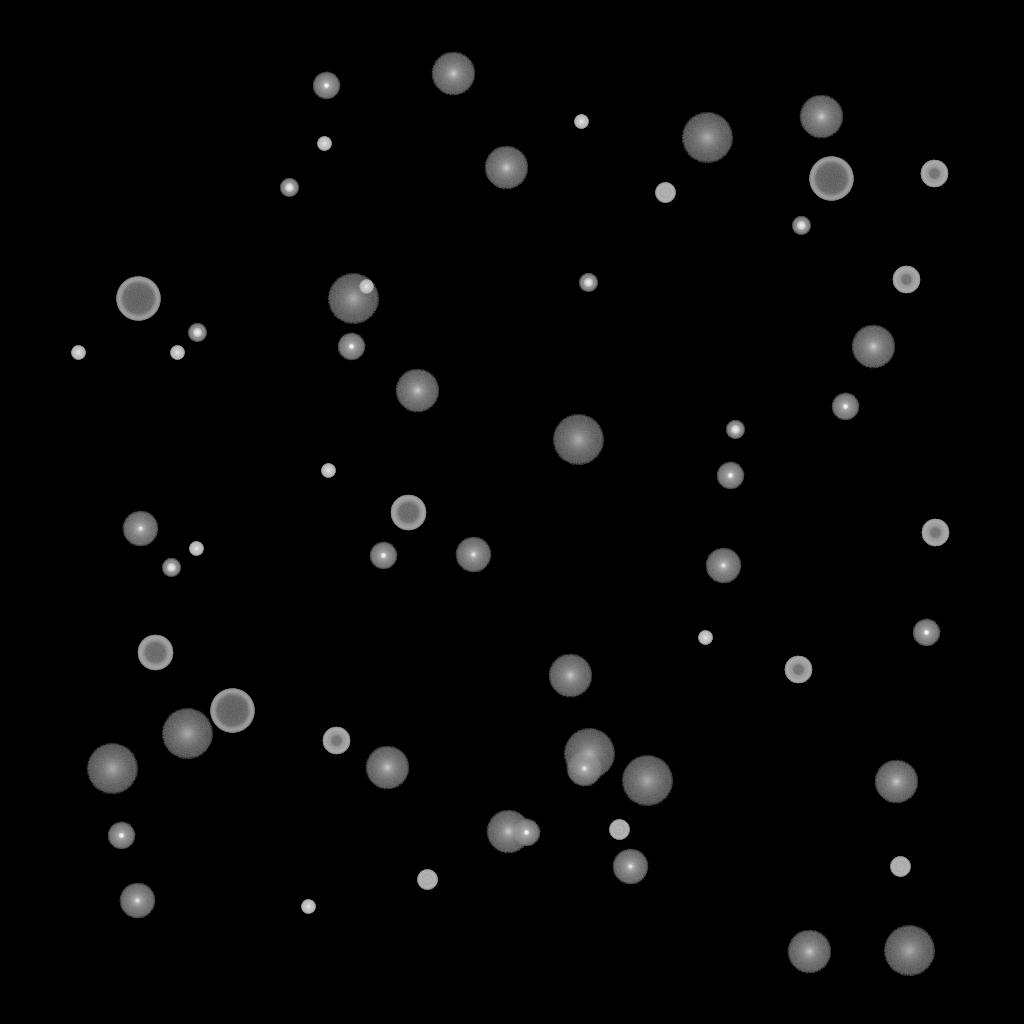depth:-10: (369, 542, 397, 570), (831, 393, 859, 421), (716, 462, 744, 490), (312, 72, 340, 100), (337, 333, 365, 361), (512, 819, 540, 847), (107, 822, 135, 850), (912, 619, 940, 647)
depth:-20: (726, 421, 744, 439), (280, 179, 298, 197), (579, 274, 597, 292), (162, 559, 180, 577), (188, 324, 206, 342), (792, 217, 810, 235)
depth:-30: (321, 464, 335, 478), (359, 280, 373, 294), (71, 346, 85, 360), (170, 346, 184, 360), (317, 137, 331, 151), (301, 900, 315, 914), (189, 542, 203, 556), (698, 631, 712, 645), (574, 115, 588, 129)
depth:-40: (655, 183, 675, 203), (890, 857, 910, 877), (417, 870, 437, 890), (609, 820, 629, 840)
depth:-50: (892, 266, 920, 294), (921, 519, 949, 547), (322, 727, 350, 755), (784, 656, 812, 684), (920, 160, 948, 188)
depth:-60: (137, 635, 173, 671), (390, 495, 426, 531)
depth:-70: (809, 157, 853, 201), (116, 277, 160, 321), (210, 689, 254, 733)
depth:0: (566, 751, 602, 787), (122, 511, 158, 547), (119, 883, 155, 919), (705, 548, 741, 584), (455, 537, 491, 573), (612, 849, 648, 885)
depth:10: (548, 654, 592, 698), (395, 369, 439, 413), (484, 146, 528, 190), (851, 325, 895, 369), (486, 810, 530, 854), (799, 95, 843, 139), (874, 760, 918, 804), (365, 746, 409, 790), (431, 52, 475, 96), (787, 930, 831, 974)
depth:20: (552, 415, 604, 465), (883, 926, 935, 976), (621, 756, 673, 806), (86, 744, 138, 794), (327, 274, 379, 324), (161, 709, 213, 759), (563, 729, 615, 779), (681, 113, 733, 163)
